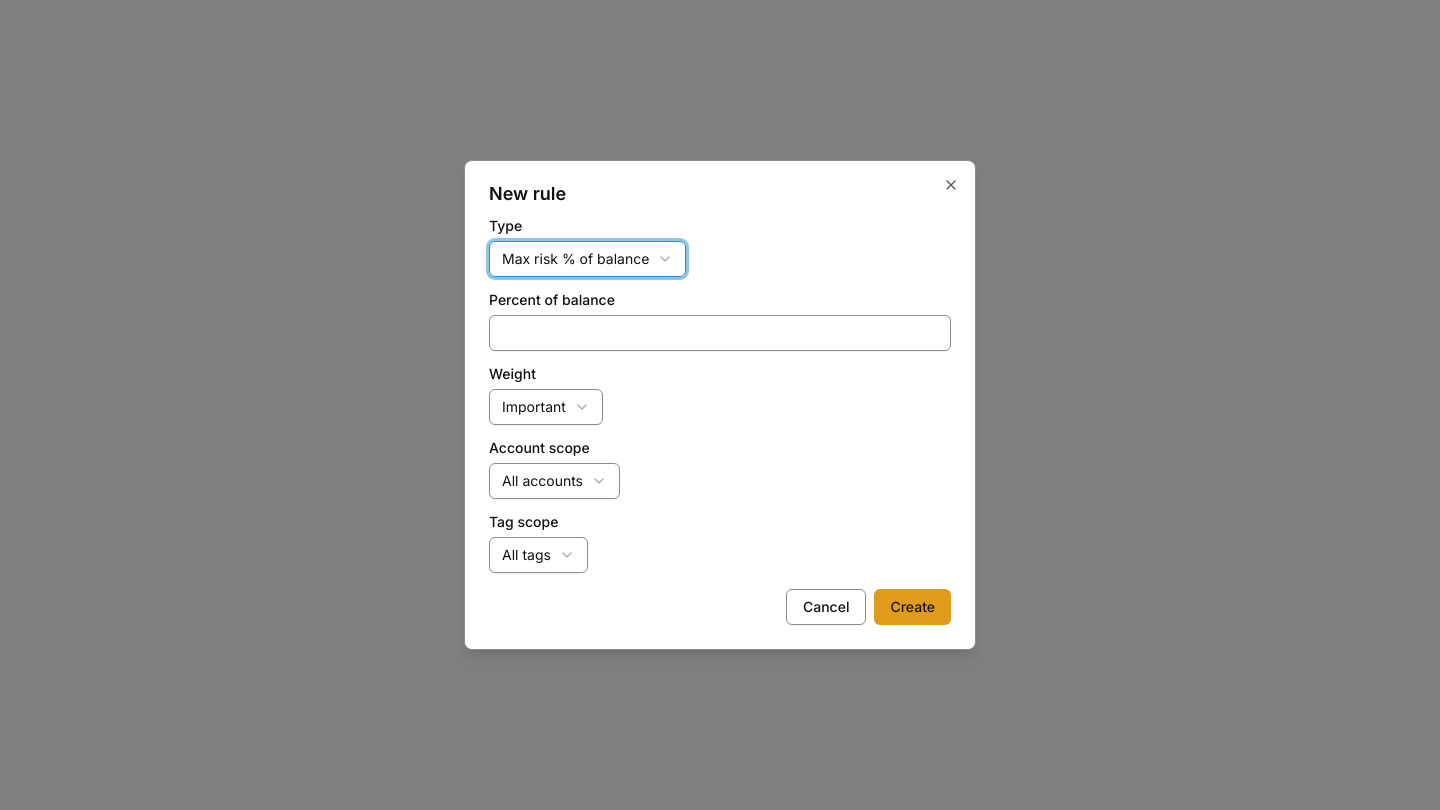
Test: RuleDialog — inline 409 › renders the limit refusal inline by code
Type "2" into the field labelled "Percent of balance" at (720,333), box [489,315,951,351]
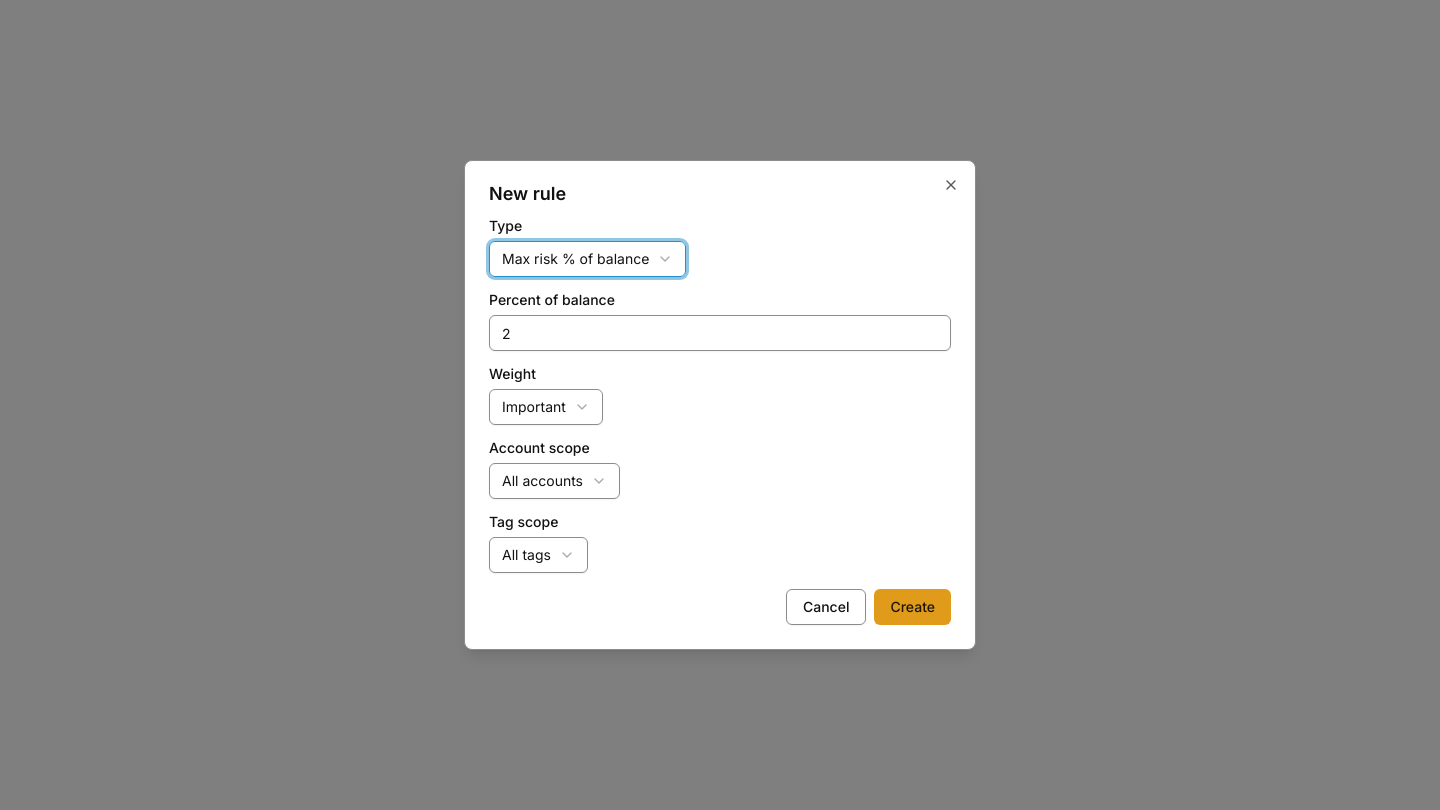
Click the button "Create" at (913,607), box [874,589,951,625]
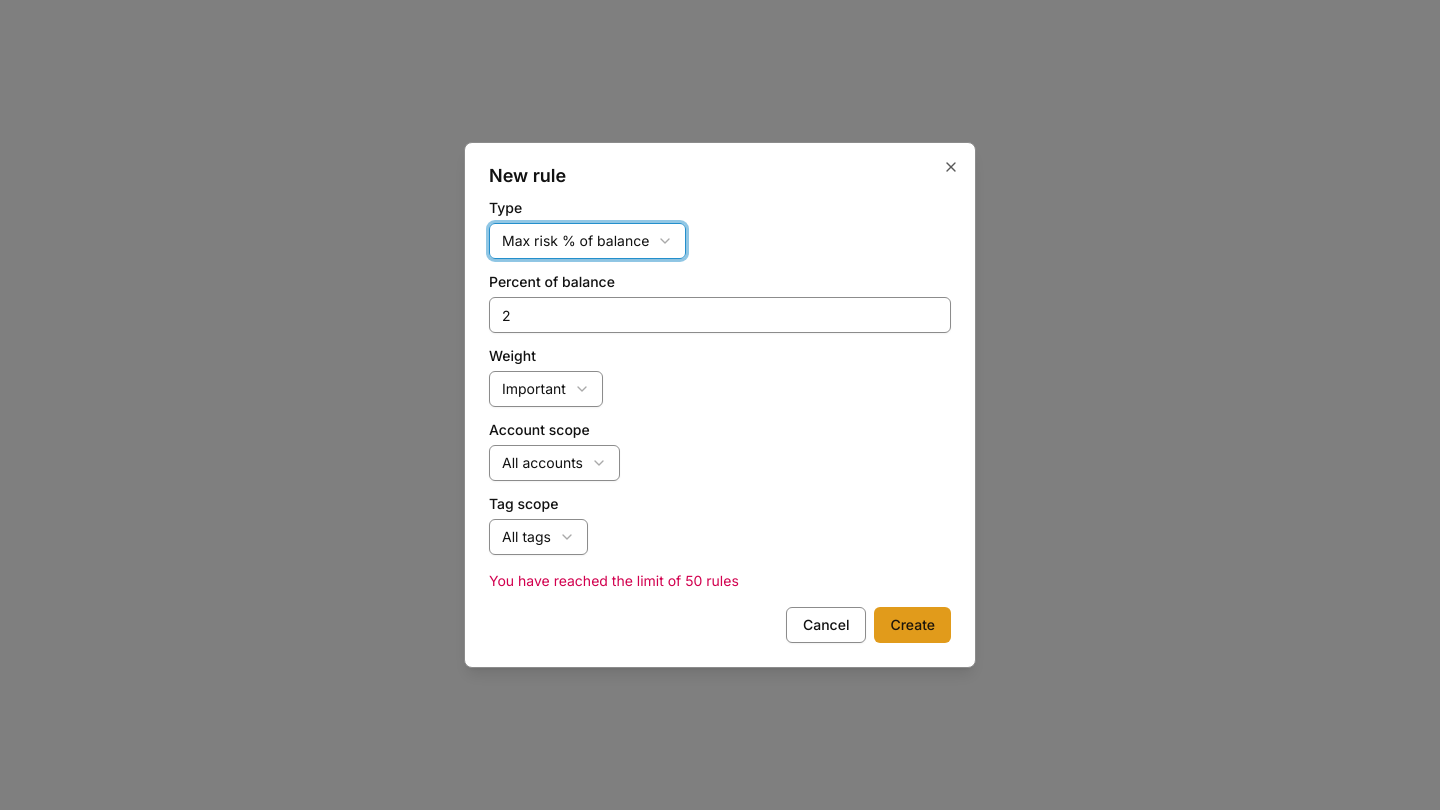
Now the text "You have reached the limit of 50 rules" is shown, box [489,572,739,589]
